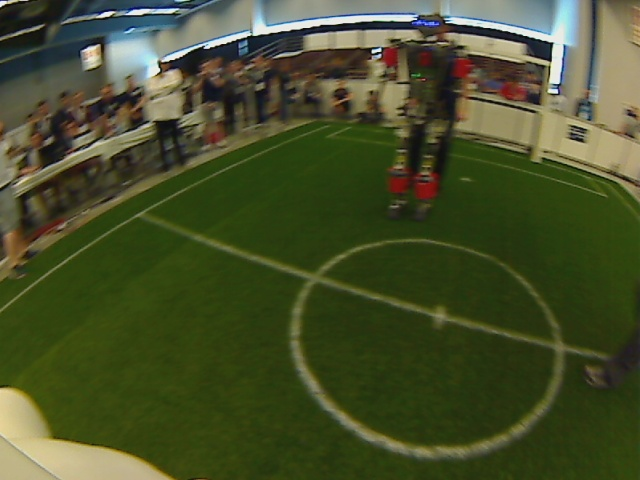goalpost: (385, 121, 413, 146), (528, 143, 551, 172)
robot: (375, 191, 440, 228)
